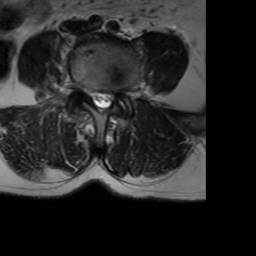CCS_normal: (97, 82, 105, 118)
LFS_severe_stenosis: (114, 80, 122, 103)
LLS_normal: (105, 85, 114, 112)
RFS_stenosis: (80, 76, 88, 102)
RLS_normal: (88, 81, 97, 110)
